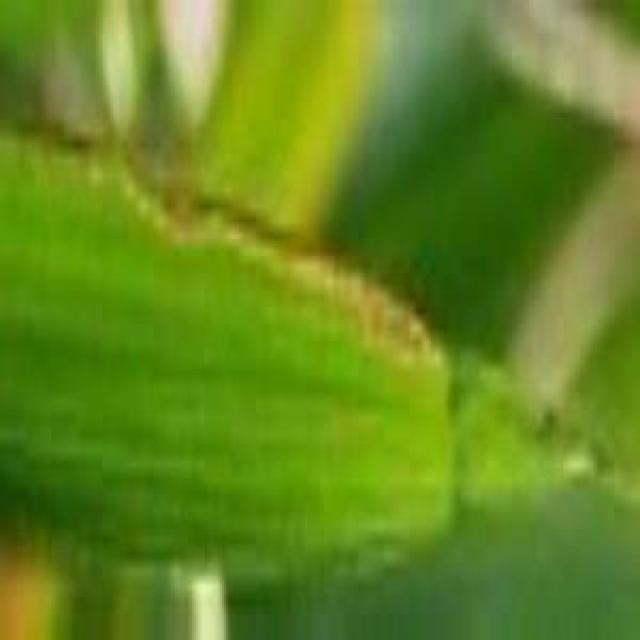Bacterial_Blight: (0, 116, 439, 371)
